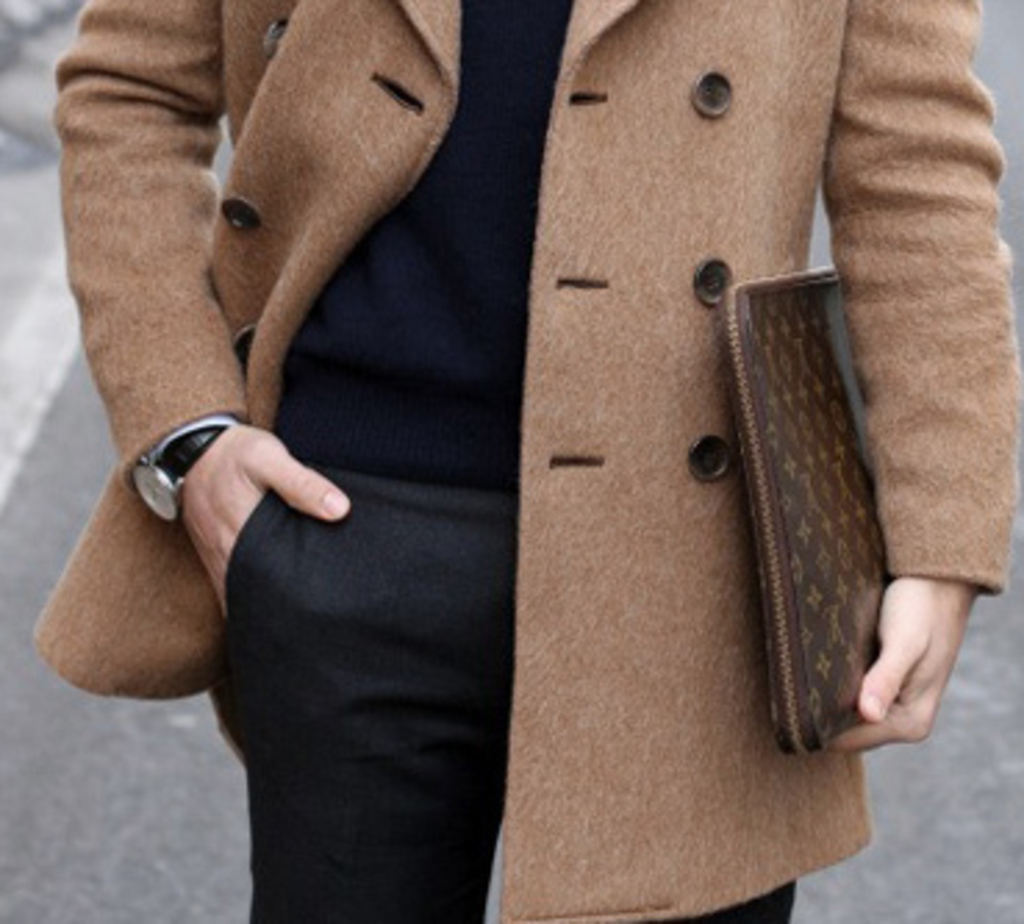Person: (32, 0, 1024, 924)
